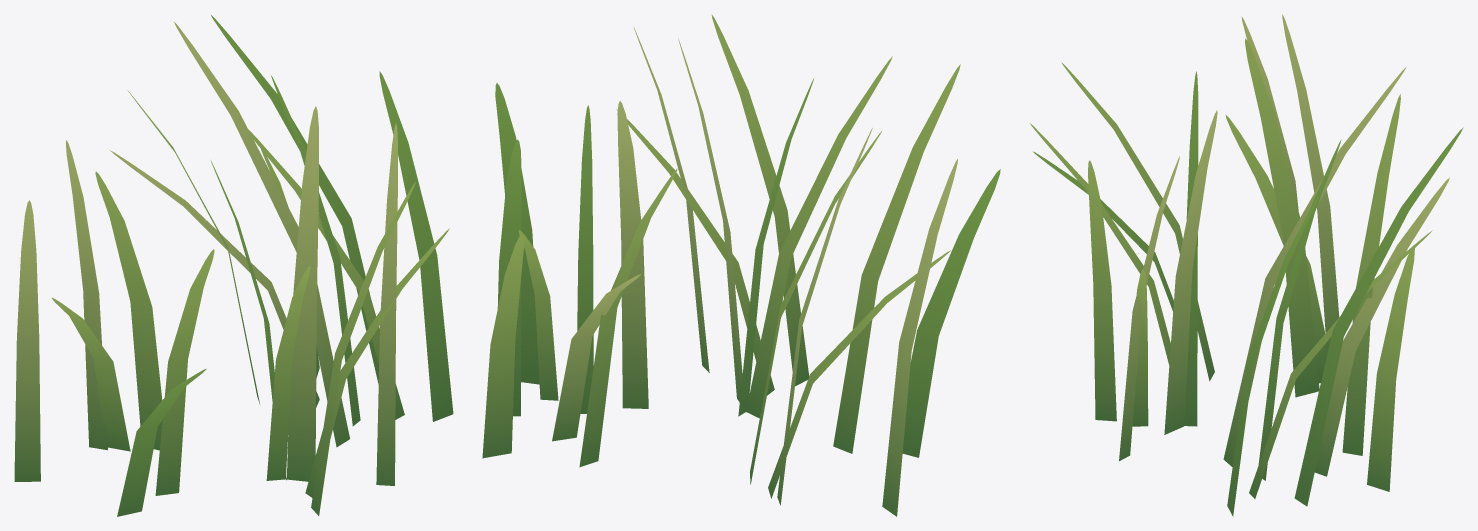
The model's file is grass_tall.glb.
The picture shows the model from 3 angles, left to right: view 1: azimuth 30°, elevation 25°; view 2: azimuth 150°, elevation 25°; view 3: azimuth 270°, elevation 25°; orthographic projection. The views are drawn at different scales.
Parts seen in each view (by area): view 1: Grass; view 2: Grass; view 3: Grass.
Boxes of the visible parts, bbox=[...] form: Grass: bbox=[14, 15, 453, 516]; Grass: bbox=[482, 14, 1000, 516]; Grass: bbox=[1030, 14, 1463, 516].
Bounding box in the file's own units: 0.5456 × 0.4634 × 0.5052.
